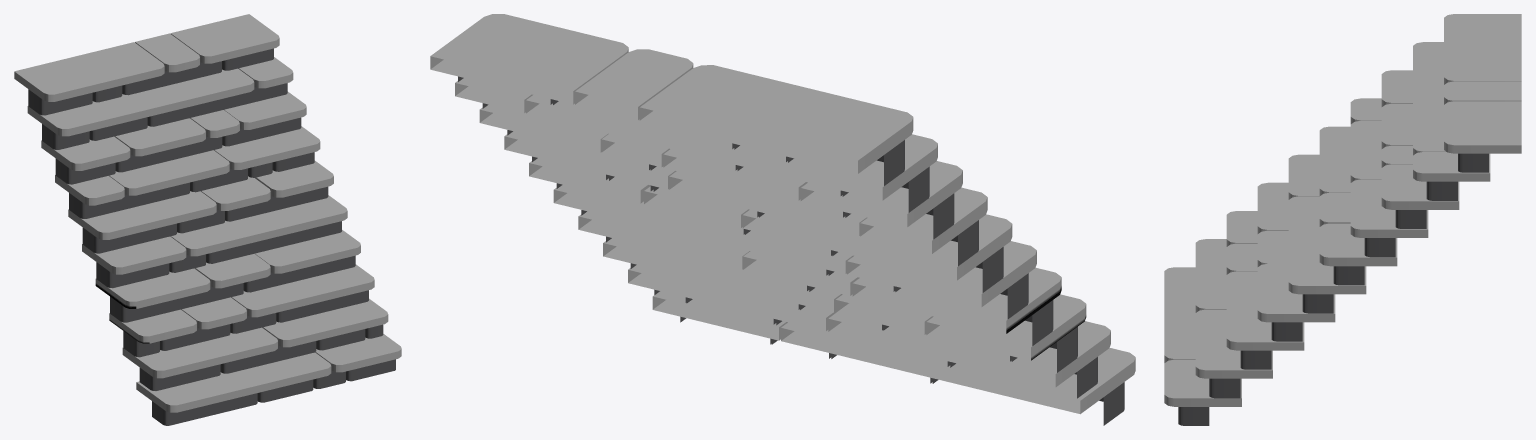
The model's file is Stairs Textured.fbx.
3 views of the same model, side by side, from view 1: azimuth 30°, elevation 25°; view 2: azimuth 150°, elevation 25°; view 3: azimuth 270°, elevation 25° (orthographic). The views are drawn at different scales.
Parts seen in each view (by area): view 1: Stairs; view 2: Stairs; view 3: Stairs.
Boxes of the visible parts, box(x1,y1,x2,y2) form: Stairs: box(14, 14, 401, 425); Stairs: box(430, 14, 1135, 425); Stairs: box(1164, 14, 1521, 425).
Size of the model in its own units: 10 by 10 by 11.5.
